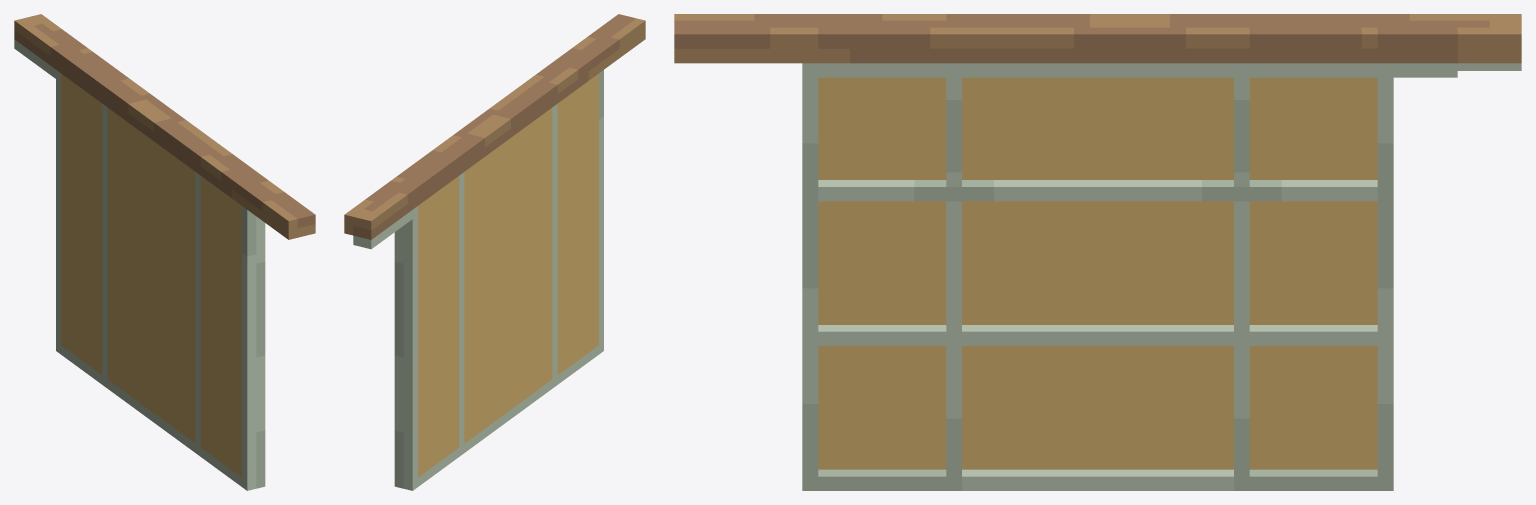
File: House Interior Rooms - Free Sample-12.obj
3 renders of one model, left to right at view 1: azimuth 30°, elevation 25°; view 2: azimuth 150°, elevation 25°; view 3: azimuth 270°, elevation 25°, orthographic. The views are drawn at different scales.
Bounding box in the file's own units: 0.06 × 0.64 × 1.06.
Materials: 1 (1 with a texture image).
